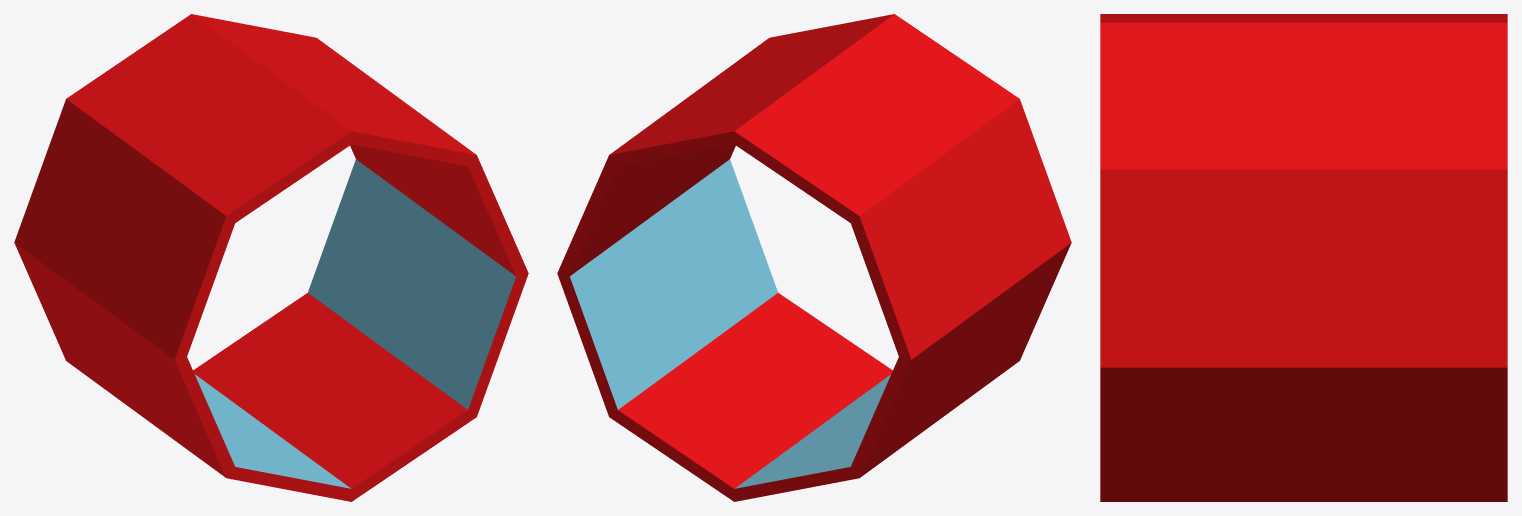
The model's file is tunel.fbx.
3 renders of one model, left to right at view 1: azimuth 30°, elevation 25°; view 2: azimuth 150°, elevation 25°; view 3: azimuth 270°, elevation 25°, orthographic. The views are drawn at different scales.
Parts seen in each view (by area): view 1: Tunel; view 2: Tunel; view 3: Tunel.
Part boxes in pixels (x1=…): Tunel: x1=14, y1=14, x2=528, y2=501; Tunel: x1=557, y1=14, x2=1071, y2=501; Tunel: x1=1100, y1=14, x2=1507, y2=501.
Bounding box in the file's own units: 6 × 6 × 4.7.
